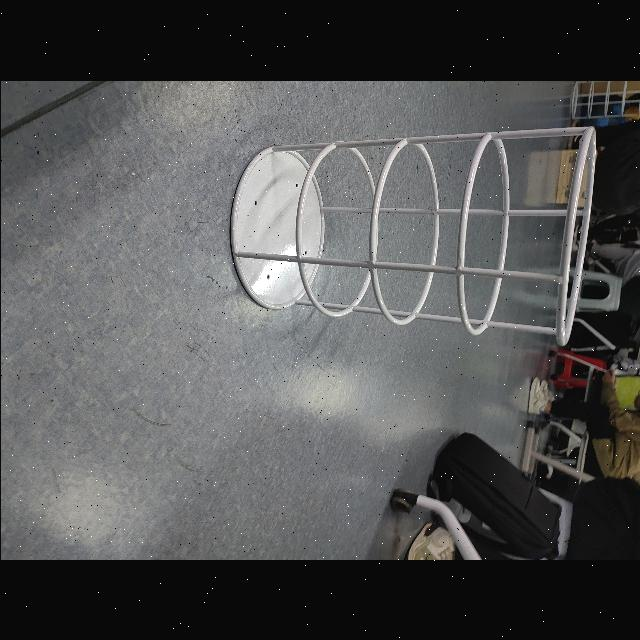S: (224, 122, 602, 354)
